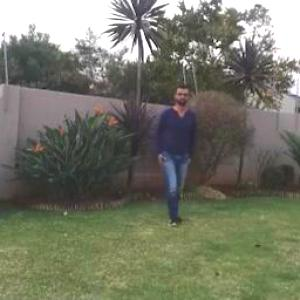follow: (157, 84, 195, 215)
